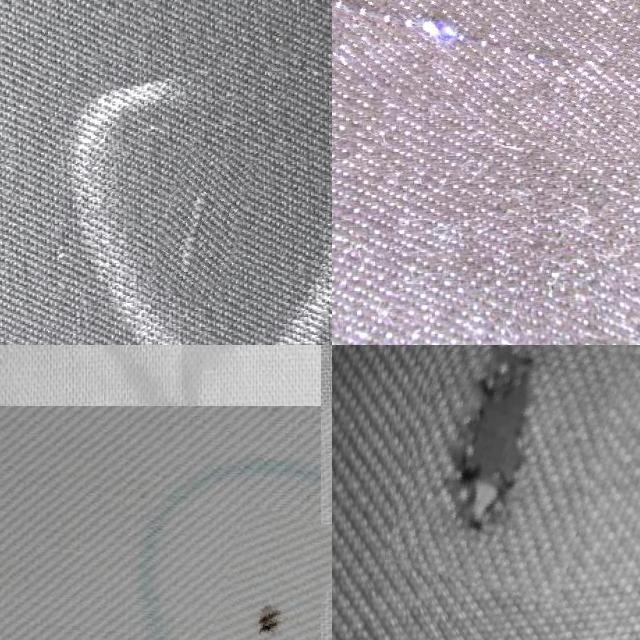Thread_other: (208, 507, 332, 640)
other: (401, 345, 614, 596)
stains: (332, 0, 640, 132), (157, 146, 251, 301)
